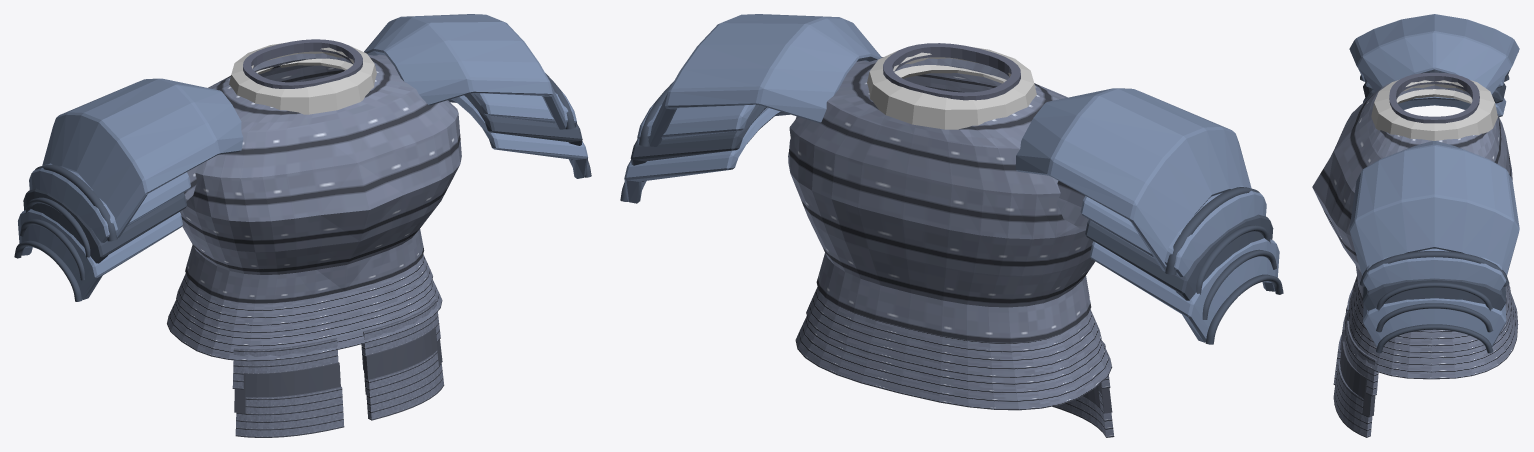
The model's file is fortress_plate.obj.
3 renders of one model, left to right at view 1: azimuth 30°, elevation 25°; view 2: azimuth 150°, elevation 25°; view 3: azimuth 270°, elevation 25°, orthographic. The views are drawn at different scales.
Parts seen in each view (by area): view 1: A_Torso.001_fortress_plate_body, K_CrowningShoulder.001_fortress_plate_shoulder_shell, D_Fauld0.001_fortress_plate_body, D_Tasset2.001_fortress_plate_body, D_Fauld1.001_fortress_plate_body, K_OverlappingLame2.001_fortress_plate_shoulder_shell, K_OverlappingLame0.001_fortress_plate_shoulder_shell, H_Gorget.001_fortress_plate_body, D_Tasset1.001_fortress_plate_shade, K_OverlappingLame1.001_fortress_plate_shoulder_overlap, D_Tasset0.001_fortress_plate_body, B_NeckTrim.001_fortress_plate_trim (+4 smaller); view 2: A_Torso.001_fortress_plate_body, K_CrowningShoulder.001_fortress_plate_shoulder_shell, D_Fauld1.001_fortress_plate_body, D_Fauld0.001_fortress_plate_body, K_OverlappingLame2.001_fortress_plate_shoulder_shell, K_OverlappingLame0.001_fortress_plate_shoulder_shell, H_Gorget.001_fortress_plate_body, K_OverlappingLame1.001_fortress_plate_shoulder_overlap, B_NeckTrim.001_fortress_plate_trim, K_RaisedLip.001_fortress_plate_shoulder_overlap, D_Tasset2.001_fortress_plate_body, K_LameLip2.001_fortress_plate_shoulder_overlap (+2 smaller); view 3: K_CrowningShoulder.001_fortress_plate_shoulder_shell, A_Torso.001_fortress_plate_body, D_Fauld1.001_fortress_plate_body, K_OverlappingLame2.001_fortress_plate_shoulder_shell, H_Gorget.001_fortress_plate_body, K_OverlappingLame0.001_fortress_plate_shoulder_shell, K_OverlappingLame1.001_fortress_plate_shoulder_overlap, D_Fauld0.001_fortress_plate_body, B_NeckTrim.001_fortress_plate_trim, D_Tasset2.001_fortress_plate_body, D_Tasset1.001_fortress_plate_shade, K_RaisedLip.001_fortress_plate_shoulder_overlap (+4 smaller).
Boxes of the visible parts, x1,y1,x2,y2 form: A_Torso.001_fortress_plate_body: (180, 53, 461, 303); K_CrowningShoulder.001_fortress_plate_shoulder_shell: (42, 14, 566, 238); D_Fauld0.001_fortress_plate_body: (176, 254, 432, 333); D_Tasset2.001_fortress_plate_body: (235, 350, 444, 437); D_Fauld1.001_fortress_plate_body: (167, 279, 442, 361); K_OverlappingLame2.001_fortress_plate_shoulder_shell: (18, 95, 587, 299); K_OverlappingLame0.001_fortress_plate_shoulder_shell: (29, 81, 576, 242); H_Gorget.001_fortress_plate_body: (229, 42, 376, 114); D_Tasset1.001_fortress_plate_shade: (234, 326, 442, 413); K_OverlappingLame1.001_fortress_plate_shoulder_overlap: (23, 93, 582, 263); D_Tasset0.001_fortress_plate_body: (232, 299, 440, 389); B_NeckTrim.001_fortress_plate_trim: (243, 39, 362, 88); A_Torso.001_fortress_plate_body: (788, 57, 1095, 343); K_CrowningShoulder.001_fortress_plate_shoulder_shell: (648, 14, 1251, 271); D_Fauld1.001_fortress_plate_body: (795, 316, 1112, 410); D_Fauld0.001_fortress_plate_body: (806, 287, 1101, 377); K_OverlappingLame2.001_fortress_plate_shoulder_shell: (624, 107, 1279, 342); K_OverlappingLame0.001_fortress_plate_shoulder_shell: (637, 91, 1266, 276); H_Gorget.001_fortress_plate_body: (867, 47, 1036, 129); K_OverlappingLame1.001_fortress_plate_shoulder_overlap: (630, 105, 1273, 300); B_NeckTrim.001_fortress_plate_trim: (883, 43, 1020, 100); K_RaisedLip.001_fortress_plate_shoulder_overlap: (639, 81, 1259, 274); D_Tasset2.001_fortress_plate_body: (1052, 391, 1114, 437); K_LameLip2.001_fortress_plate_shoulder_overlap: (620, 182, 1283, 344); K_CrowningShoulder.001_fortress_plate_shoulder_shell: (1349, 14, 1519, 275); A_Torso.001_fortress_plate_body: (1312, 83, 1512, 301); D_Fauld1.001_fortress_plate_body: (1345, 292, 1518, 379); K_OverlappingLame2.001_fortress_plate_shoulder_shell: (1363, 96, 1506, 346); H_Gorget.001_fortress_plate_body: (1371, 80, 1497, 140); K_OverlappingLame0.001_fortress_plate_shoulder_shell: (1363, 77, 1506, 290); K_OverlappingLame1.001_fortress_plate_shoulder_overlap: (1363, 71, 1506, 310); D_Fauld0.001_fortress_plate_body: (1351, 276, 1511, 353); B_NeckTrim.001_fortress_plate_trim: (1389, 72, 1479, 123); D_Tasset2.001_fortress_plate_body: (1333, 335, 1372, 437); D_Tasset1.001_fortress_plate_shade: (1340, 315, 1375, 417); K_RaisedLip.001_fortress_plate_shoulder_overlap: (1360, 75, 1509, 286).
Size of the model in its own units: 4.13 by 2.53 by 1.57.
